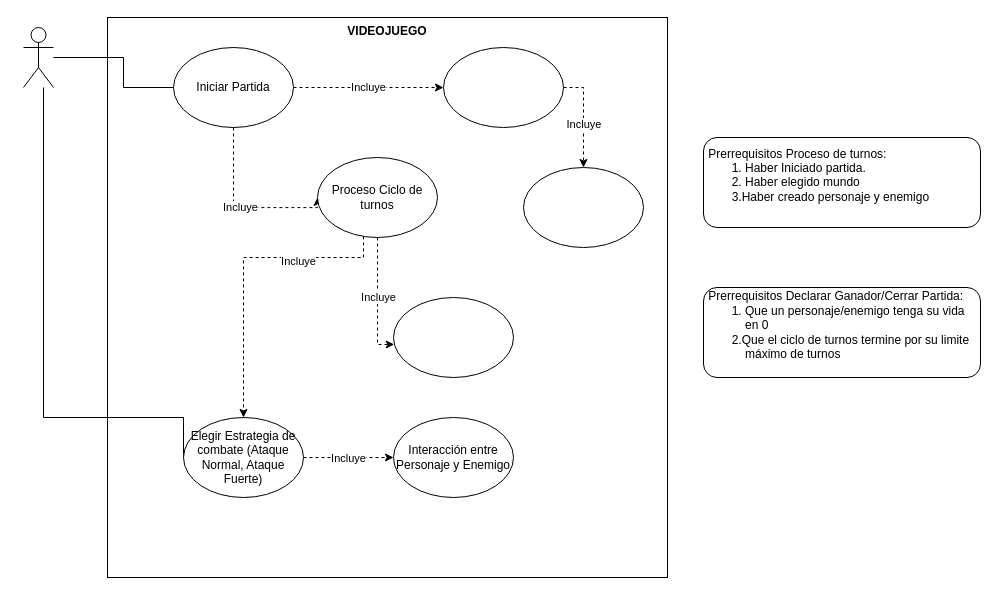
Image size: 998x595. Some labels were removed from this diagram. The shapes that lost their labels are listed below. From the top down, each one's box as (x1, y1, x2, y2) in pixels, then its label:
(22, 26, 54, 88): Jugador
(442, 46, 564, 128): Elegir Mundo de Juego (Fantasia, Sci-Fi)
(522, 166, 644, 248): Se crea un Personaje y Enemigo
(392, 296, 514, 378): Declarar Ganador/Cerrar Partida
